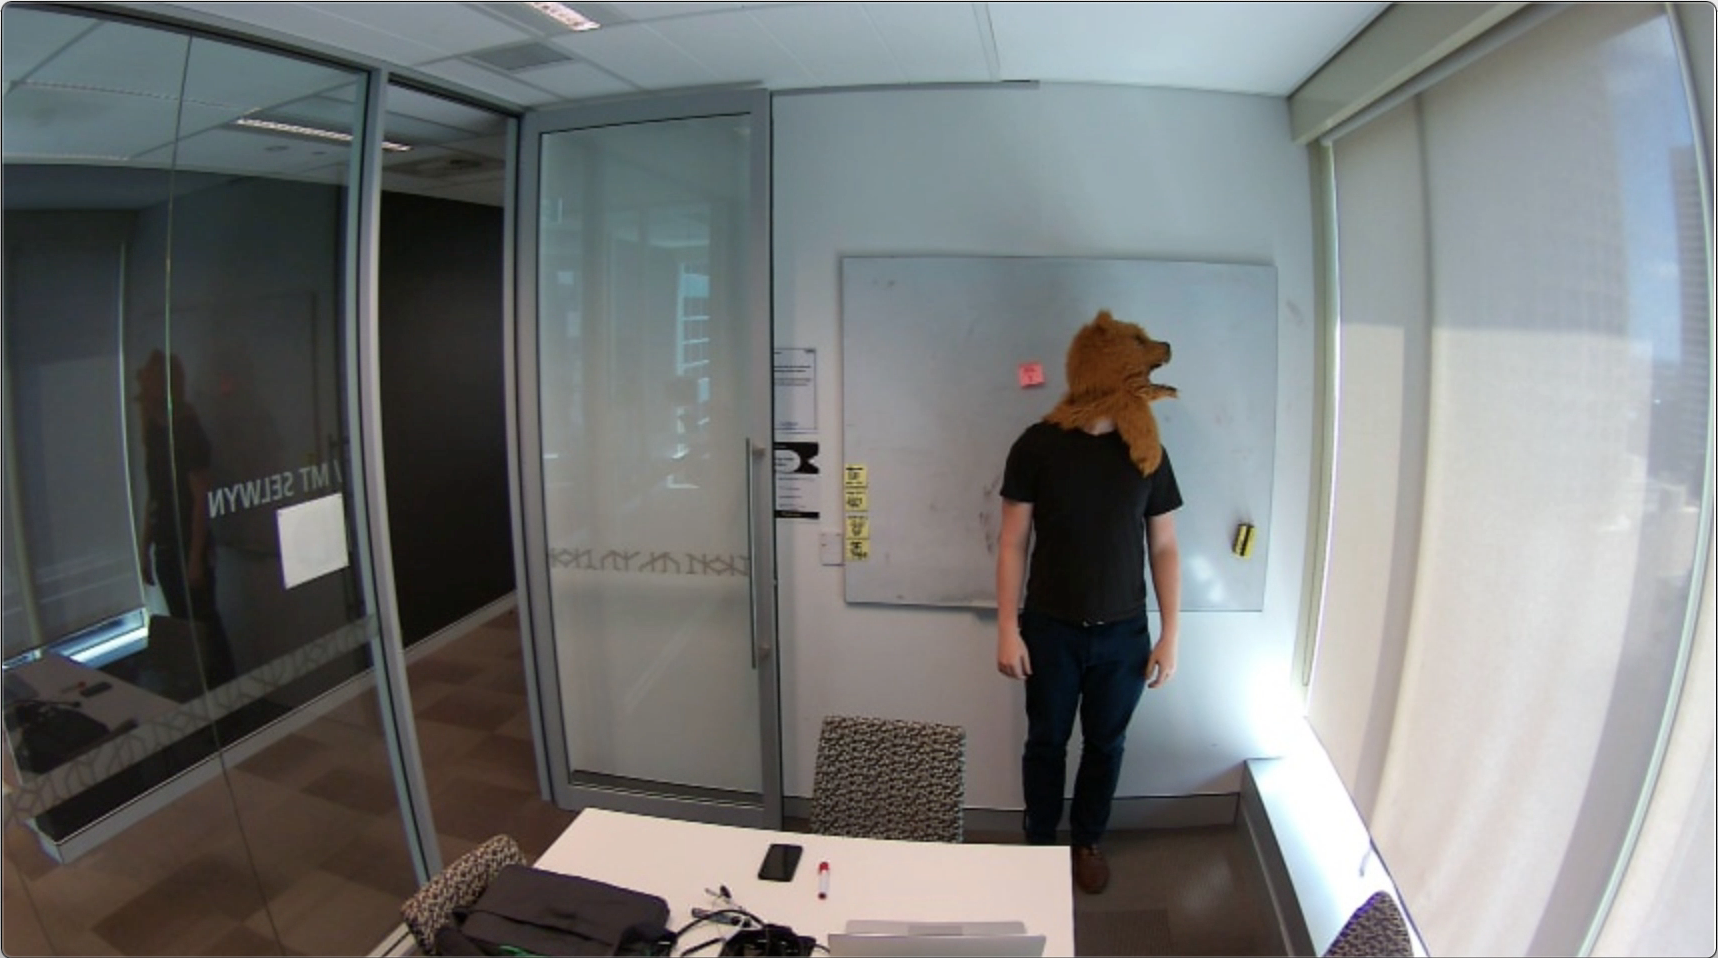Bear: (1064, 303, 1181, 411)
